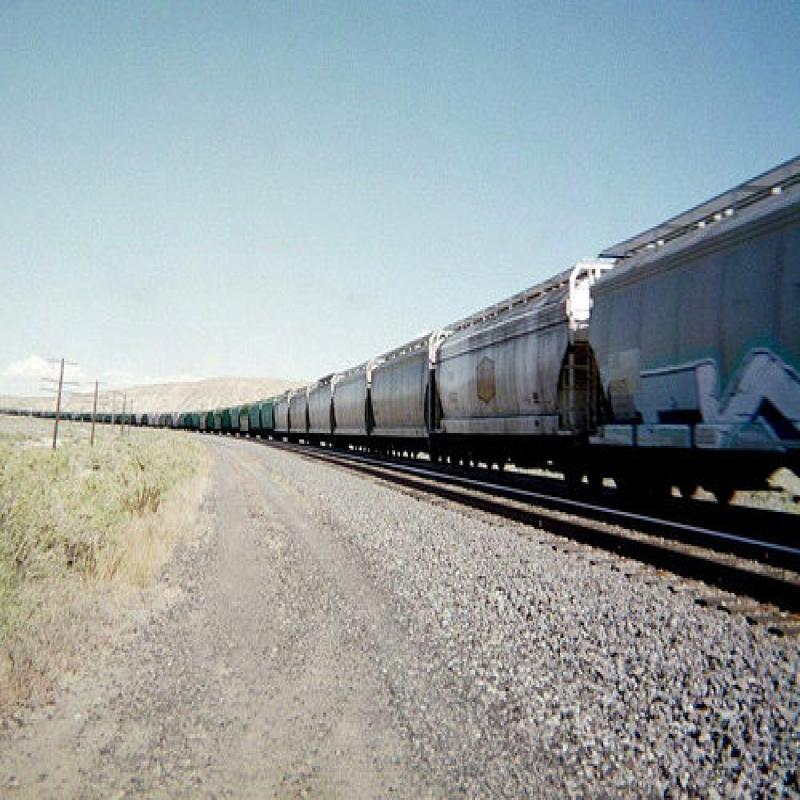train: (1, 154, 799, 506)
